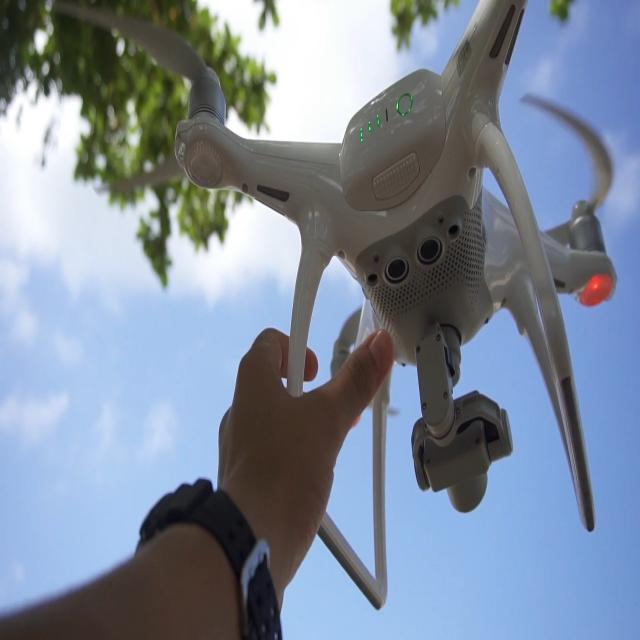Drone: (164, 3, 640, 640)
